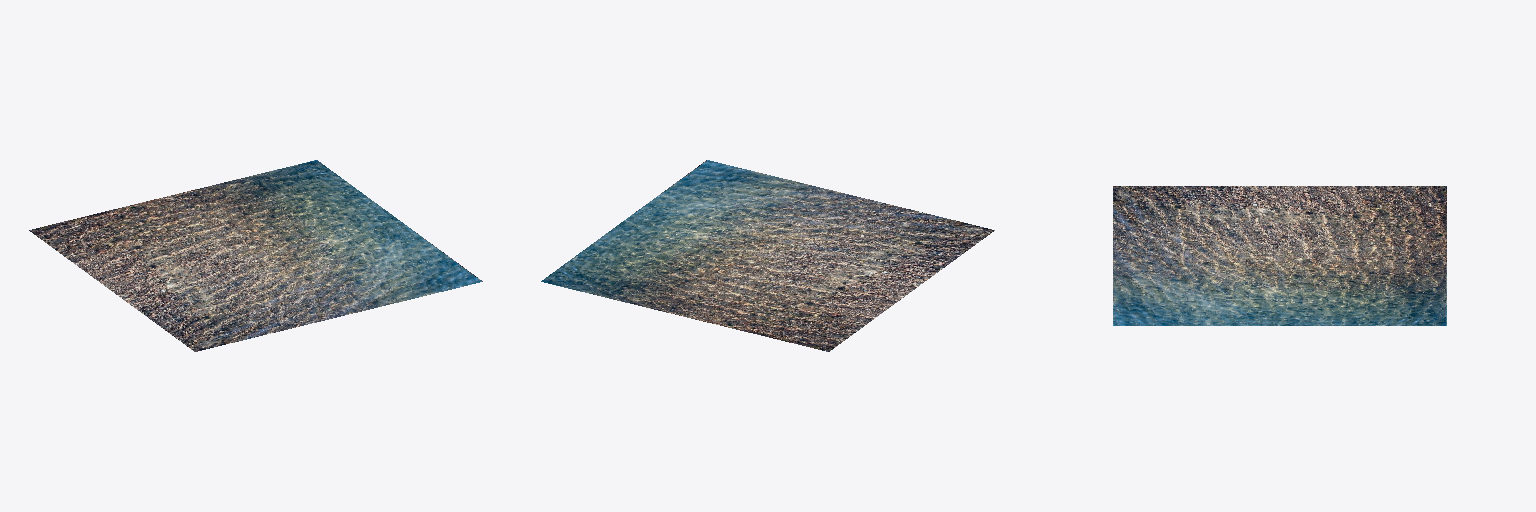
The picture shows the model from 3 angles: view 1: azimuth 30°, elevation 25°; view 2: azimuth 150°, elevation 25°; view 3: azimuth 270°, elevation 25°; orthographic projection.
Visible parts, largest first — view 1: square; view 2: square; view 3: square.
Part boxes in pixels (x1,y1,x2,y2): square: (29, 160, 482, 351); square: (541, 160, 994, 351); square: (1113, 186, 1446, 325).
Size of the model in its own units: 1 by 0 by 1.
Materials: 1 (1 with a texture image).